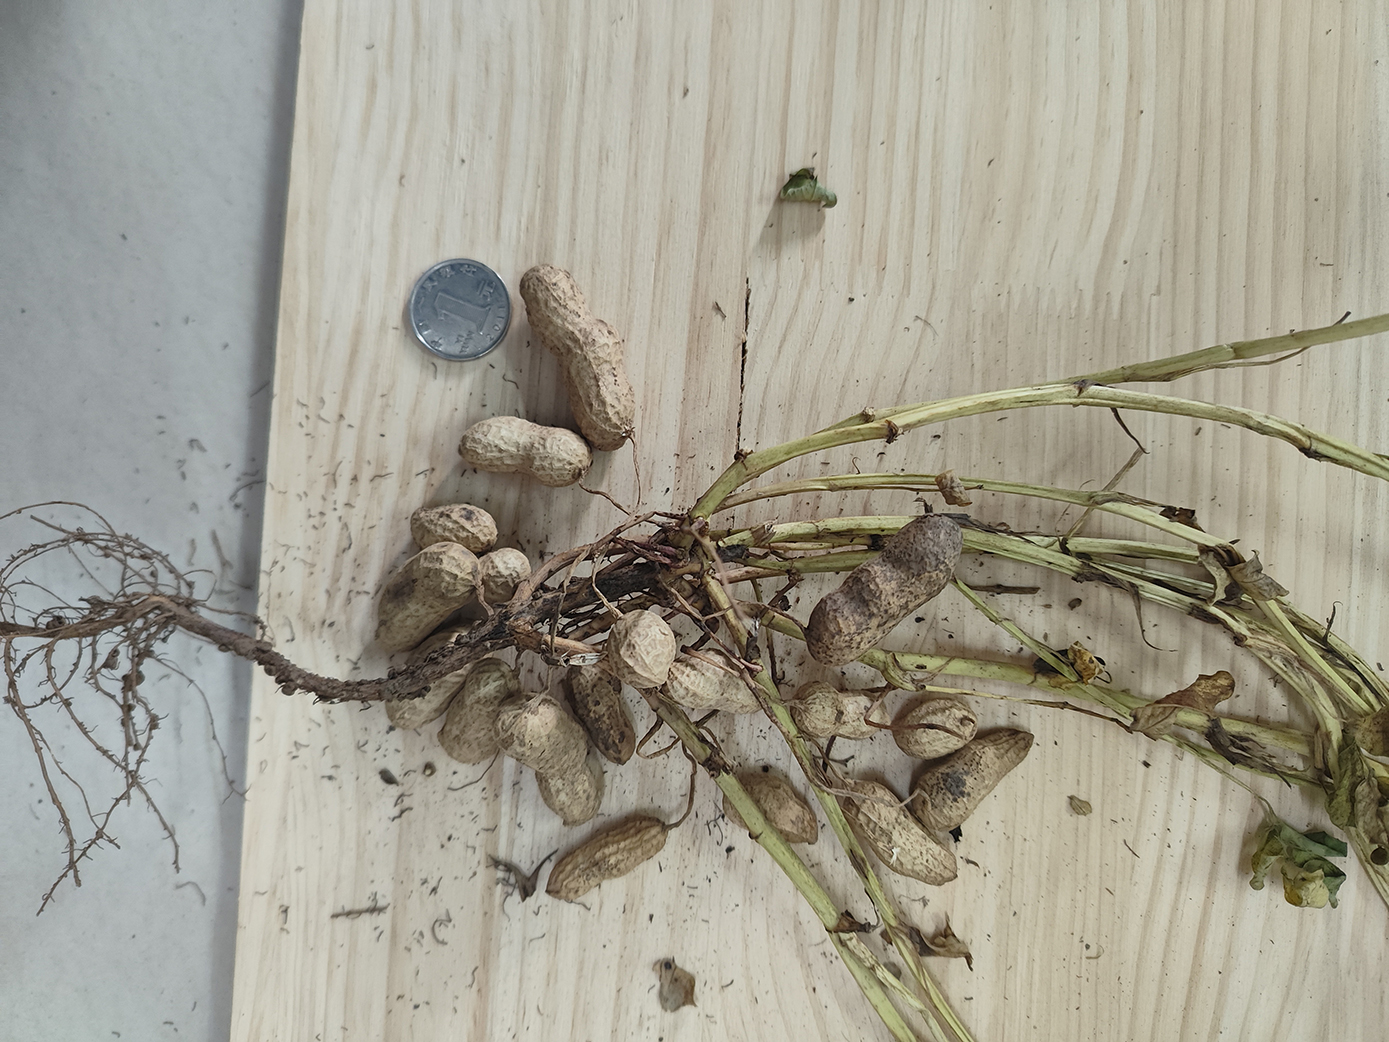h: (520, 265, 634, 451), (493, 692, 602, 827), (911, 732, 1037, 833), (840, 779, 957, 884), (375, 541, 479, 649), (385, 627, 486, 730), (460, 416, 591, 489), (548, 820, 667, 899), (439, 659, 525, 765), (721, 773, 818, 847), (569, 660, 634, 763), (669, 655, 769, 713), (792, 682, 890, 740), (611, 611, 675, 693), (898, 698, 979, 757), (409, 503, 498, 555), (476, 548, 533, 601)
l: (805, 514, 964, 665)
